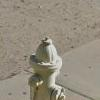Hydrant: (17, 27, 76, 99)
